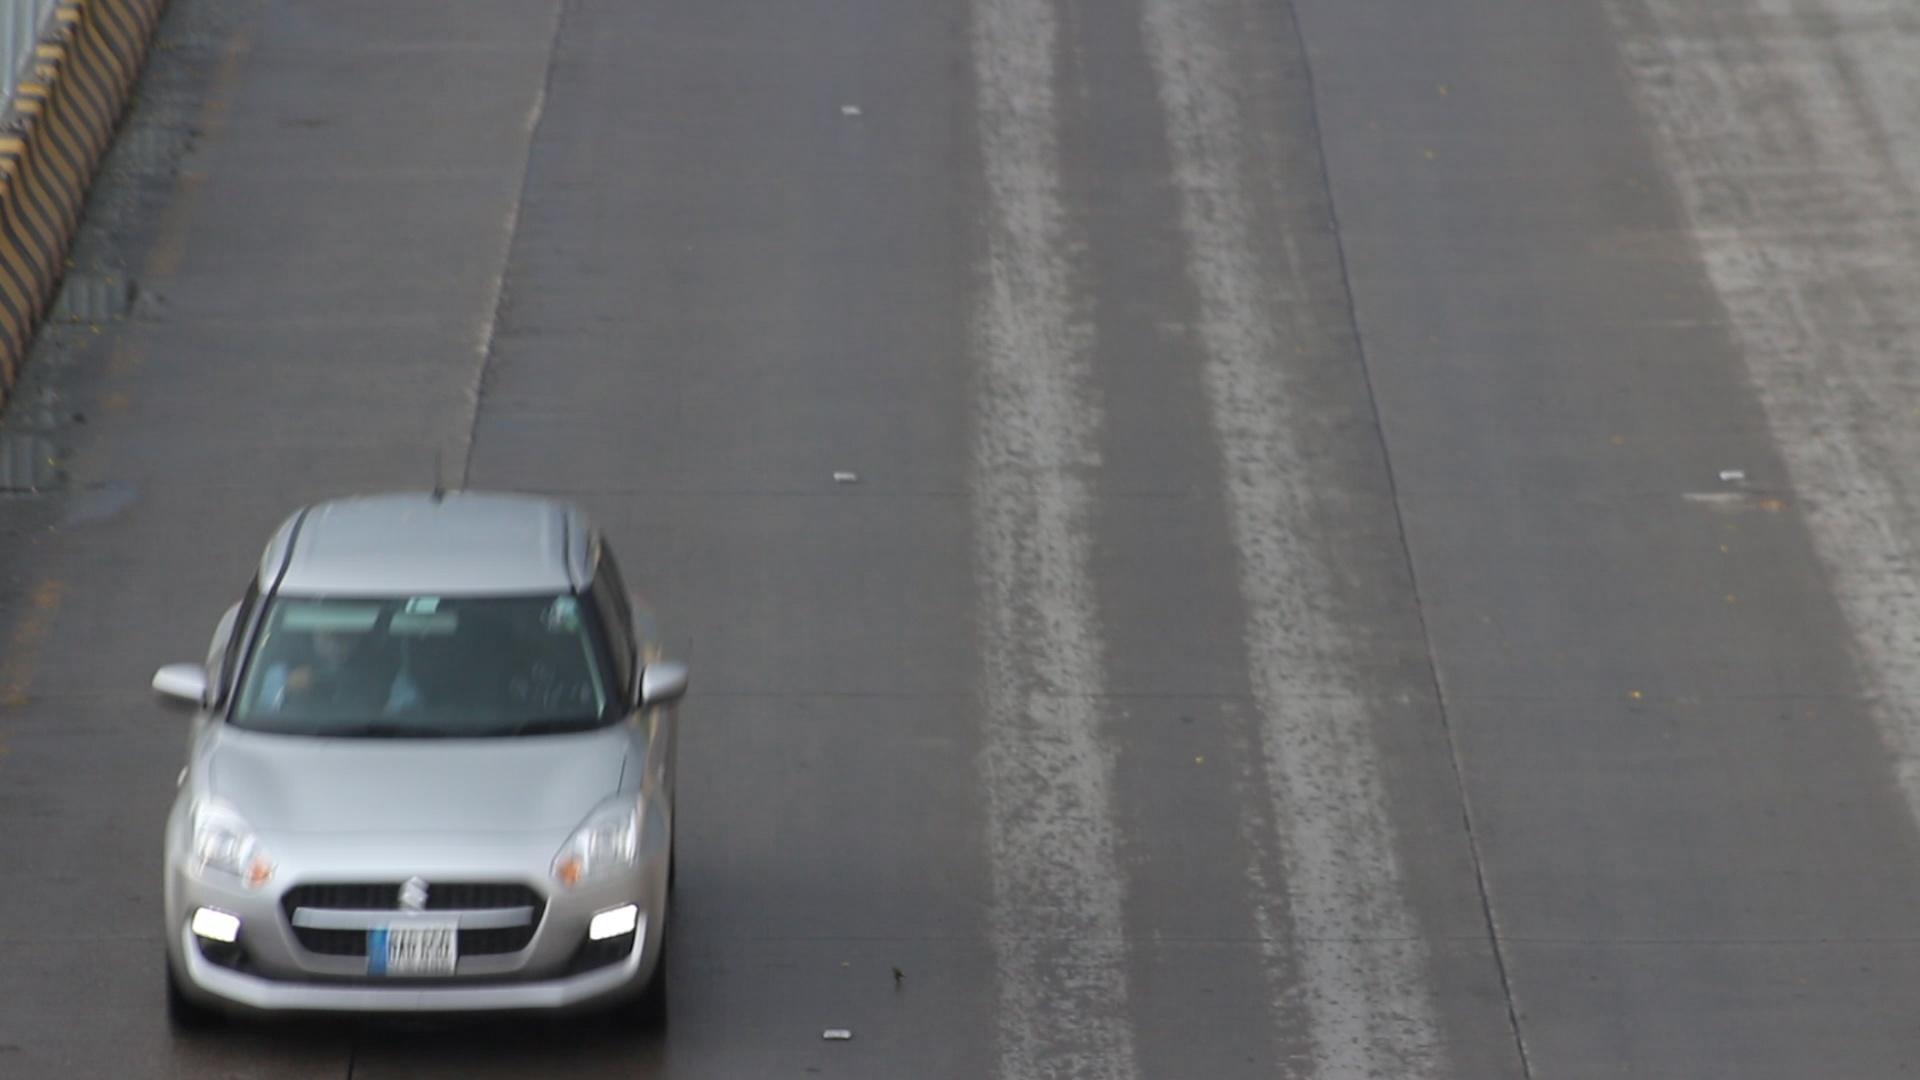windshield: (207, 563, 617, 733)
